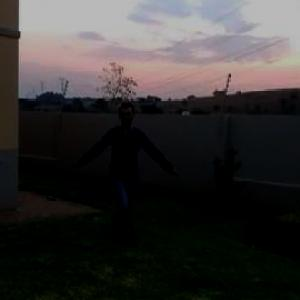land: (74, 90, 183, 251)
